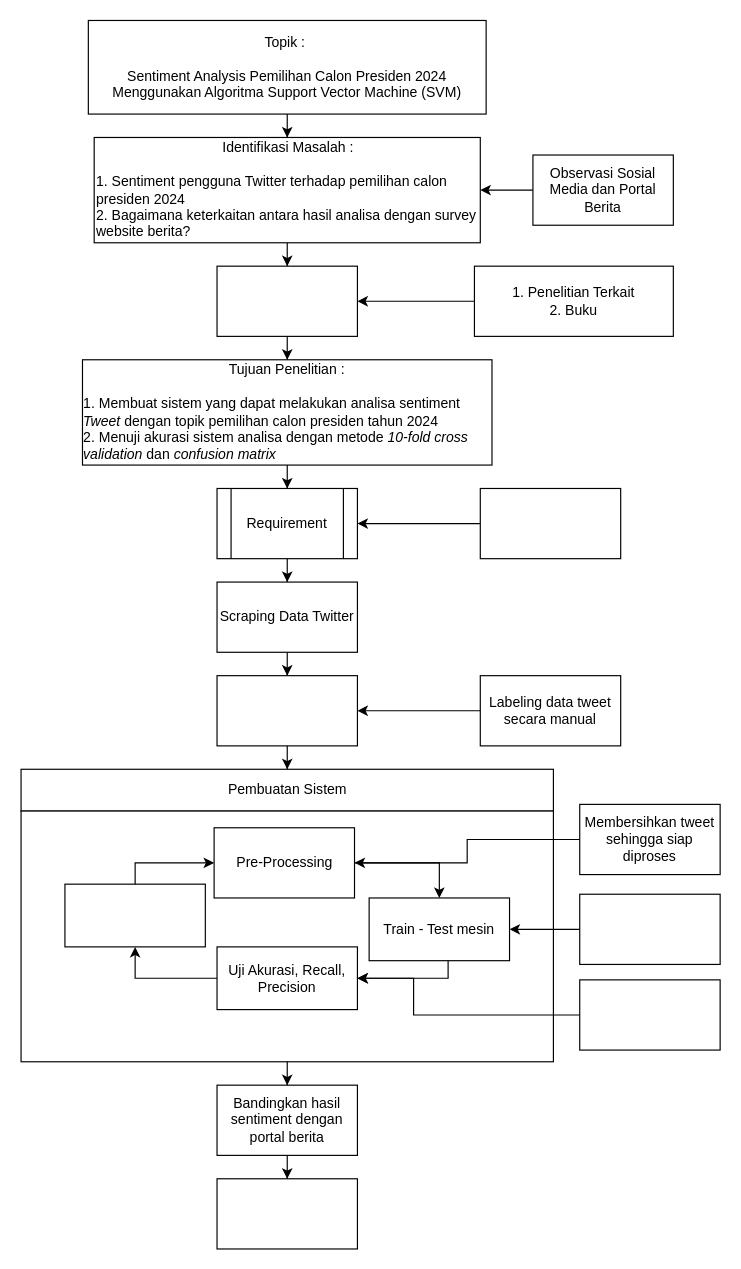
Some shapes in this 741 by 1269 pixel diagram are drawn without their labels. Each missing label, with the centre of its shape:
"Evaluasi" goes at (134,915).
"Kebutuhan analisa" goes at (550,523).
"Labeling Data" goes at (286,710).
"Laporan, Jurnal, dan Kesimpulan" goes at (286,1213).
"Menggunakan 10-fold cross validation" goes at (649,928).
"Menggunakan Confusion Matrix" goes at (649,1014).
"Studi Literatur" goes at (286,300).
